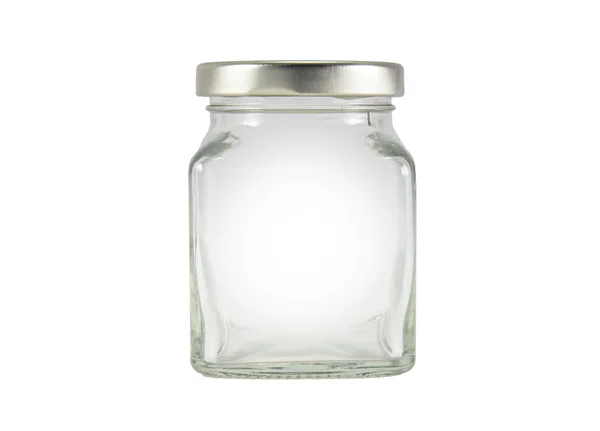glass_bottle: (161, 42, 451, 394)
